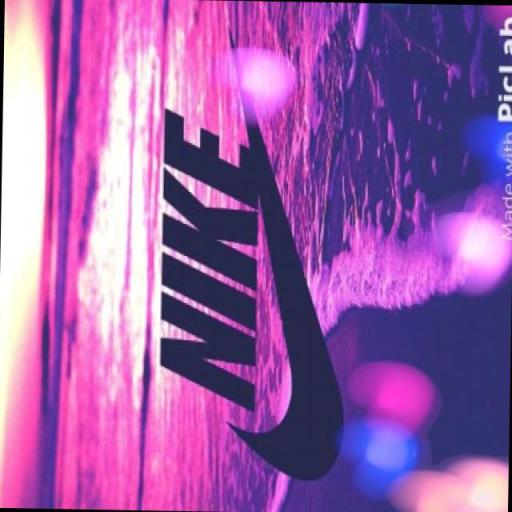Nike: (238, 100, 347, 482), (156, 102, 261, 413)
